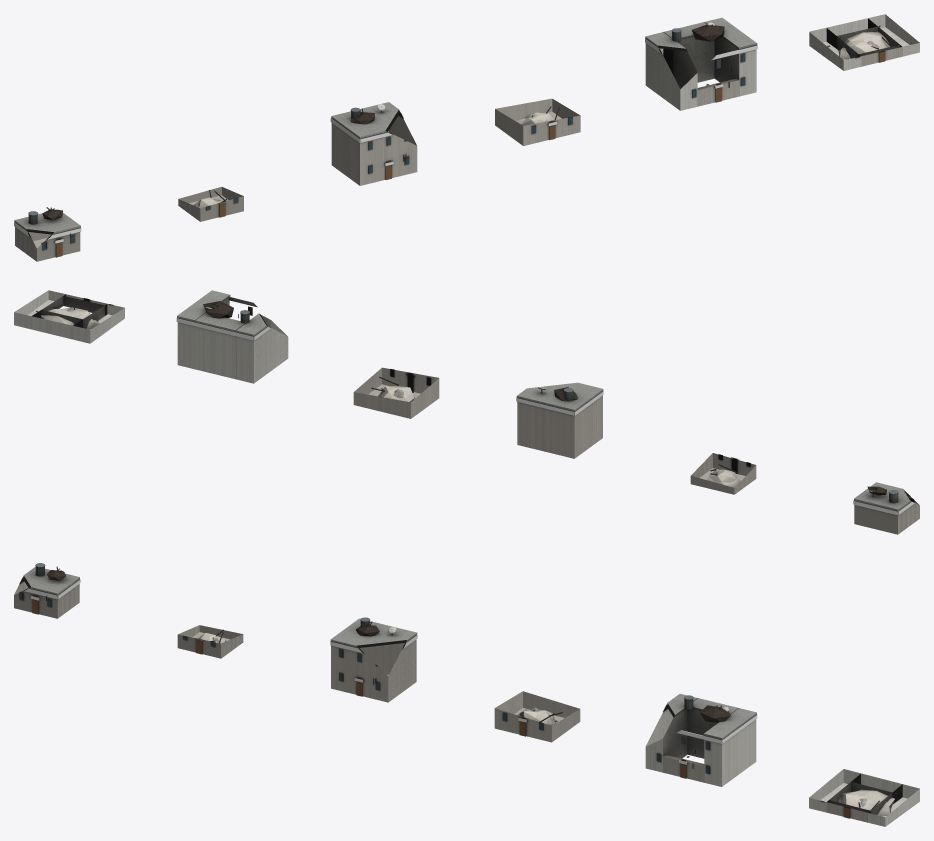
Rendered from modern-nile-houses-damage.glb.
3 renders of one model, top to bottom at view 1: azimuth 30°, elevation 25°; view 2: azimuth 150°, elevation 25°; view 3: azimuth 330°, elevation 25°, orthographic.
Parts seen in each view (by area): view 1: LOD0.004, LOD0.002, LOD0.005, LOD0.003, LOD0, LOD0.001; view 2: LOD0.004, LOD0.002, LOD0.005, LOD0.003, LOD0, LOD0.001; view 3: LOD0.004, LOD0.002, LOD0.005, LOD0.003, LOD0, LOD0.001.
Part boxes in pixels (bbox=[...]): LOD0.004: bbox=[645, 17, 757, 110]; LOD0.002: bbox=[330, 102, 417, 185]; LOD0.005: bbox=[809, 14, 919, 70]; LOD0.003: bbox=[495, 98, 580, 145]; LOD0: bbox=[14, 207, 81, 261]; LOD0.001: bbox=[178, 186, 243, 221]; LOD0.004: bbox=[176, 290, 288, 383]; LOD0.002: bbox=[516, 382, 603, 458]; LOD0.005: bbox=[14, 290, 124, 343]; LOD0.003: bbox=[353, 367, 439, 418]; LOD0: bbox=[853, 482, 919, 534]; LOD0.001: bbox=[690, 453, 756, 494]; LOD0.004: bbox=[645, 693, 757, 786]; LOD0.002: bbox=[330, 617, 417, 702]; LOD0.005: bbox=[809, 769, 919, 826]; LOD0.003: bbox=[494, 691, 580, 742]; LOD0: bbox=[14, 563, 80, 618]; LOD0.001: bbox=[177, 625, 243, 658].
Size of what is drawn, in the model's own units: 16.11 by 1.03 by 1.14.
2 materials, 2 textured.
